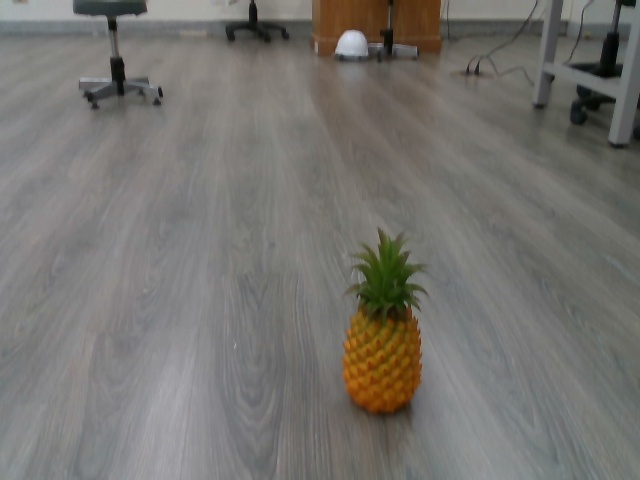pineapple: (335, 224, 436, 419)
